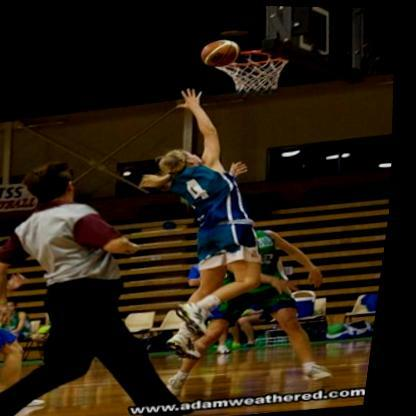basketball: (197, 35, 243, 67)
rim: (233, 44, 290, 67)
